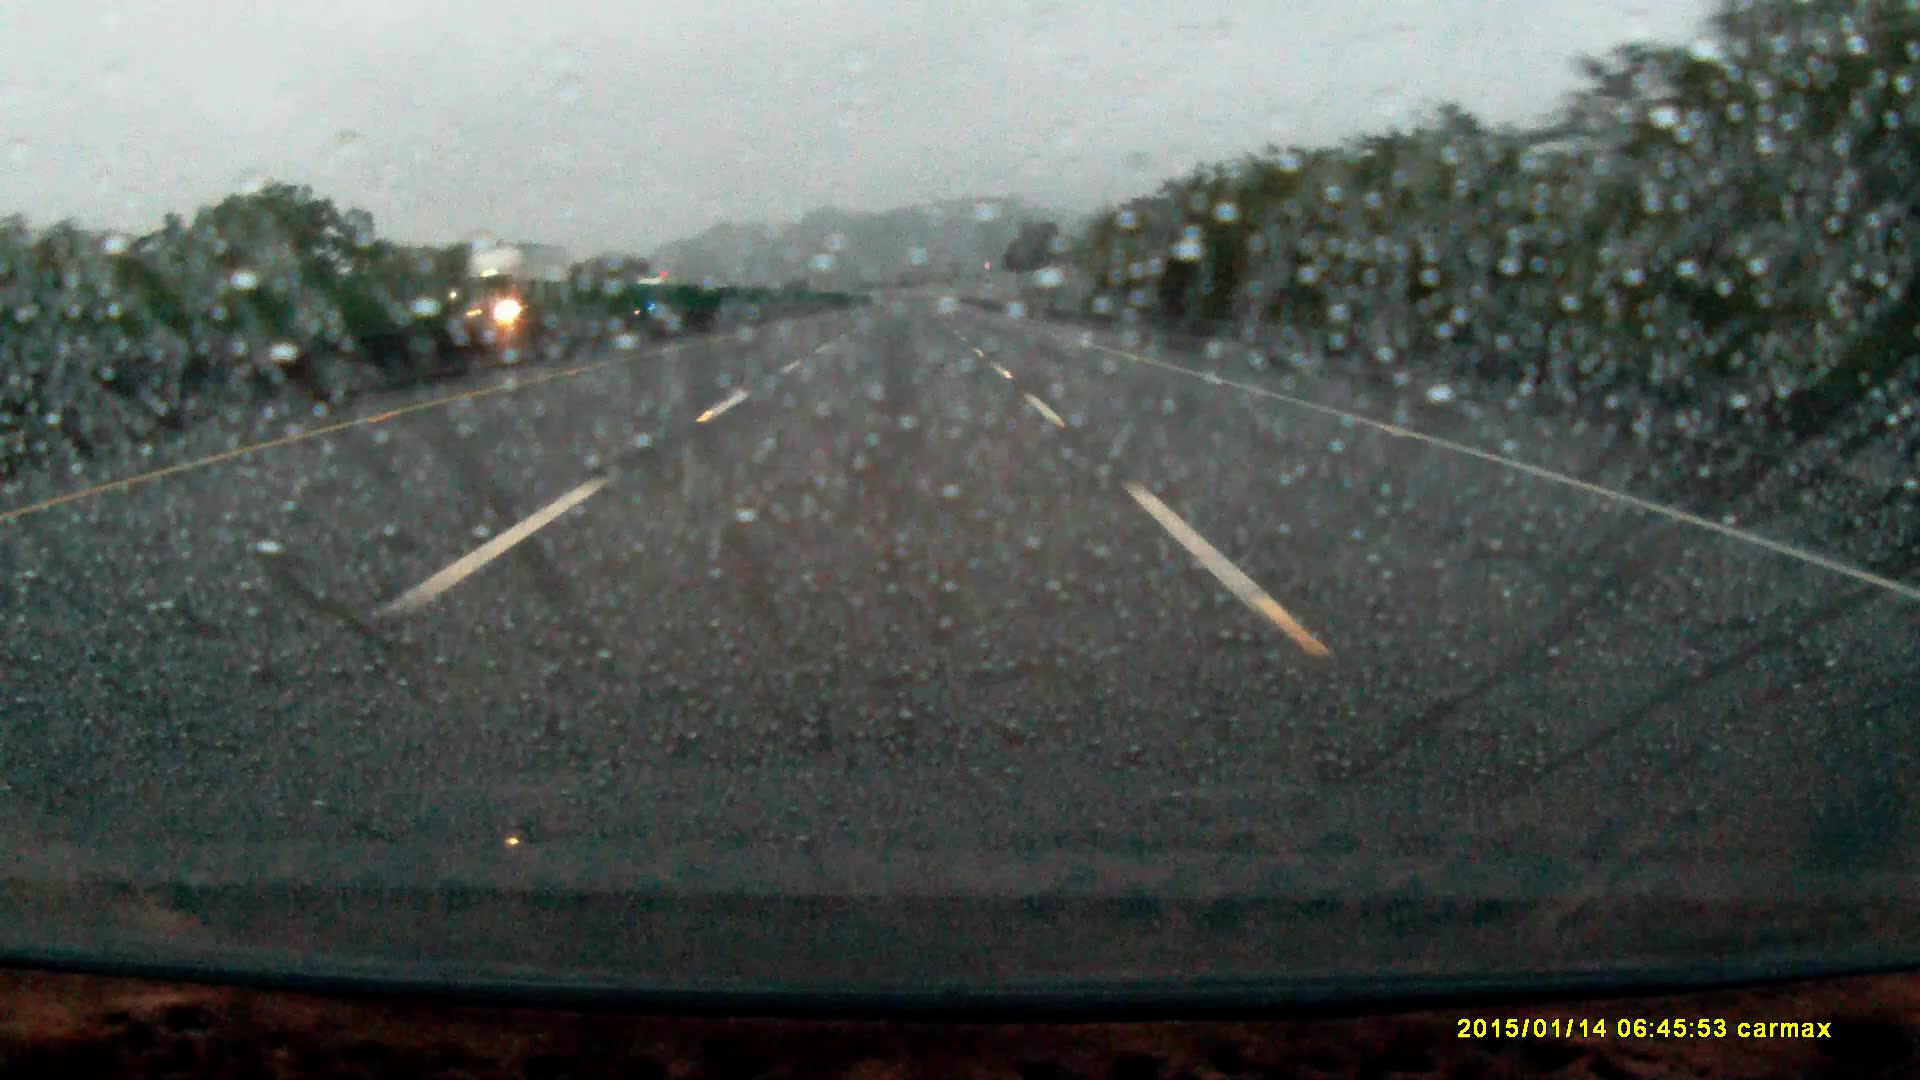vehicle: (463, 245, 588, 345), (638, 278, 687, 314)
